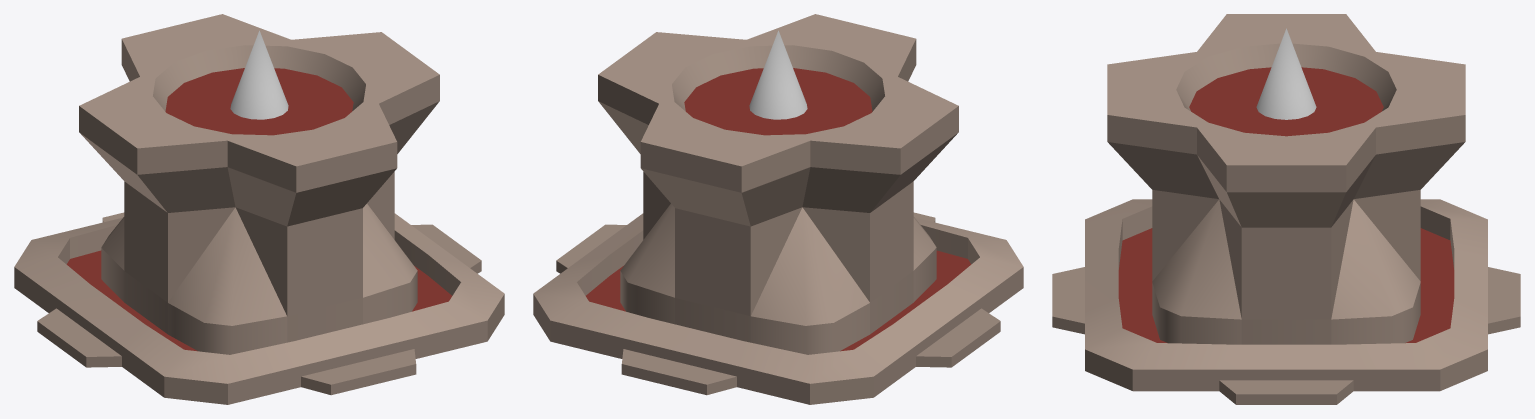
The model's file is Altar.fbx.
3 views of the same model, side by side, from view 1: azimuth 30°, elevation 25°; view 2: azimuth 150°, elevation 25°; view 3: azimuth 270°, elevation 25° (orthographic). The views are drawn at different scales.
Visible parts, largest first — view 1: Altar; view 2: Altar; view 3: Altar.
Boxes of the visible parts, box(x1,y1,x2,y2) form: Altar: box(14, 14, 504, 404); Altar: box(533, 14, 1023, 404); Altar: box(1052, 14, 1520, 404).
Bounding box in the file's own units: 0.98 × 0.98 × 0.6422.
